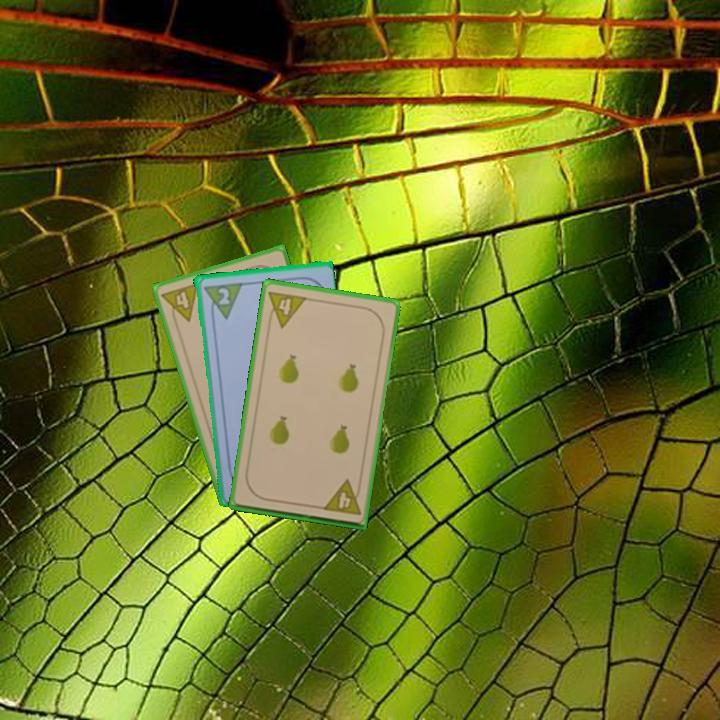2p: (214, 284, 233, 308)
4p: (158, 279, 201, 328), (264, 288, 310, 330), (319, 476, 364, 518)
